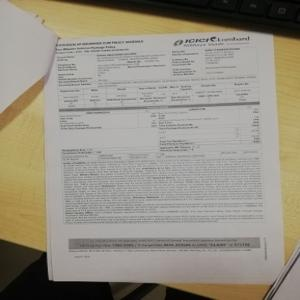image: (172, 32, 255, 47)
table: (53, 101, 264, 146)
text: (59, 156, 263, 224), (56, 48, 255, 79), (53, 38, 149, 49)
